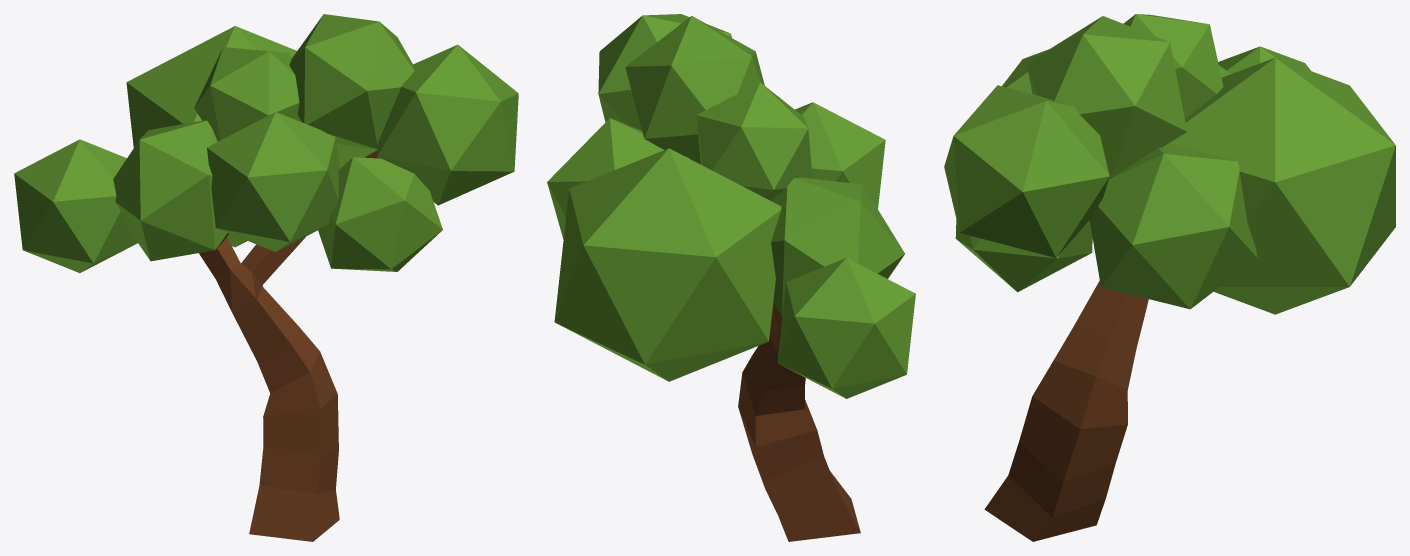
File: Tree_1.fbx
3 renders of one model, left to right at view 1: azimuth 30°, elevation 25°; view 2: azimuth 150°, elevation 25°; view 3: azimuth 270°, elevation 25°, orthographic. The views are drawn at different scales.
Visible parts, largest first — view 1: Vert.002; view 2: Vert.002; view 3: Vert.002.
Boxes of the visible parts, box(x1,y1,x2,y2) form: Vert.002: box(14, 14, 518, 541); Vert.002: box(547, 14, 915, 541); Vert.002: box(944, 14, 1395, 541).
Bounding box in the file's own units: 372 × 425 × 319.
